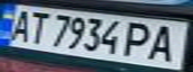3: (81, 16, 106, 54)
4: (100, 17, 127, 56)
7: (45, 11, 72, 48)
9: (63, 13, 87, 51)
A: (142, 21, 187, 63), (3, 7, 36, 43)
P: (121, 19, 160, 60)
T: (24, 8, 51, 45)
